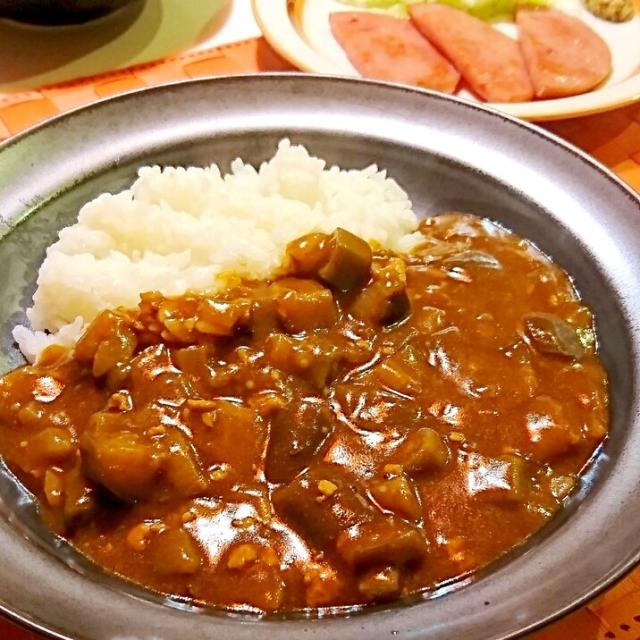Wet: (0, 133, 608, 615)
